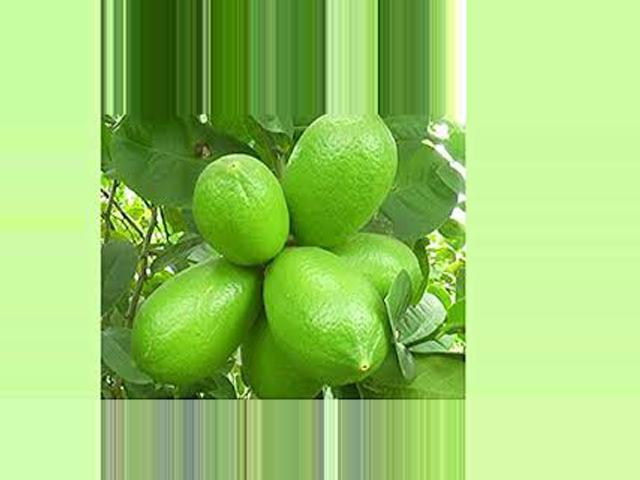lemon: (126, 254, 266, 380)
